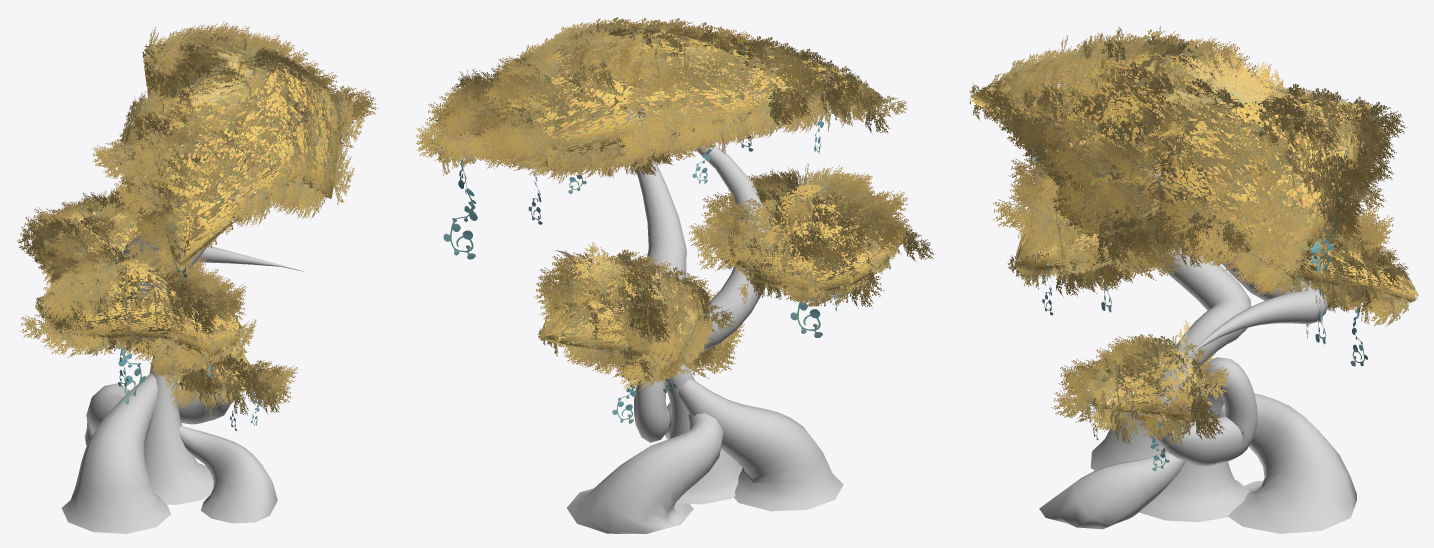
File: AmityTree.fbx
3 renders of one model, left to right at view 1: azimuth 30°, elevation 25°; view 2: azimuth 150°, elevation 25°; view 3: azimuth 270°, elevation 25°, orthographic. The views are drawn at different scales.
Visible parts, largest first — view 1: BezierCurve.004; view 2: BezierCurve.004; view 3: BezierCurve.004.
Boxes of the visible parts, x1,y1,x2,y2 form: BezierCurve.004: (17,21,377,533); BezierCurve.004: (416,17,935,533); BezierCurve.004: (969,26,1418,533).
Size of the model in its own units: 55.62 by 55.65 by 47.22.
